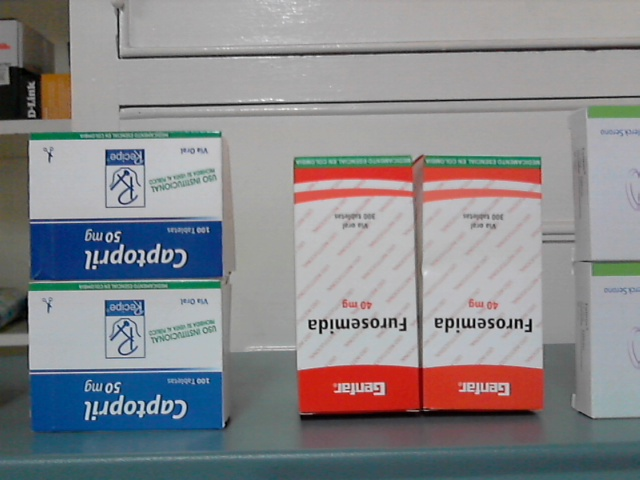Genfar: (293, 157, 420, 413), (422, 154, 545, 410)
